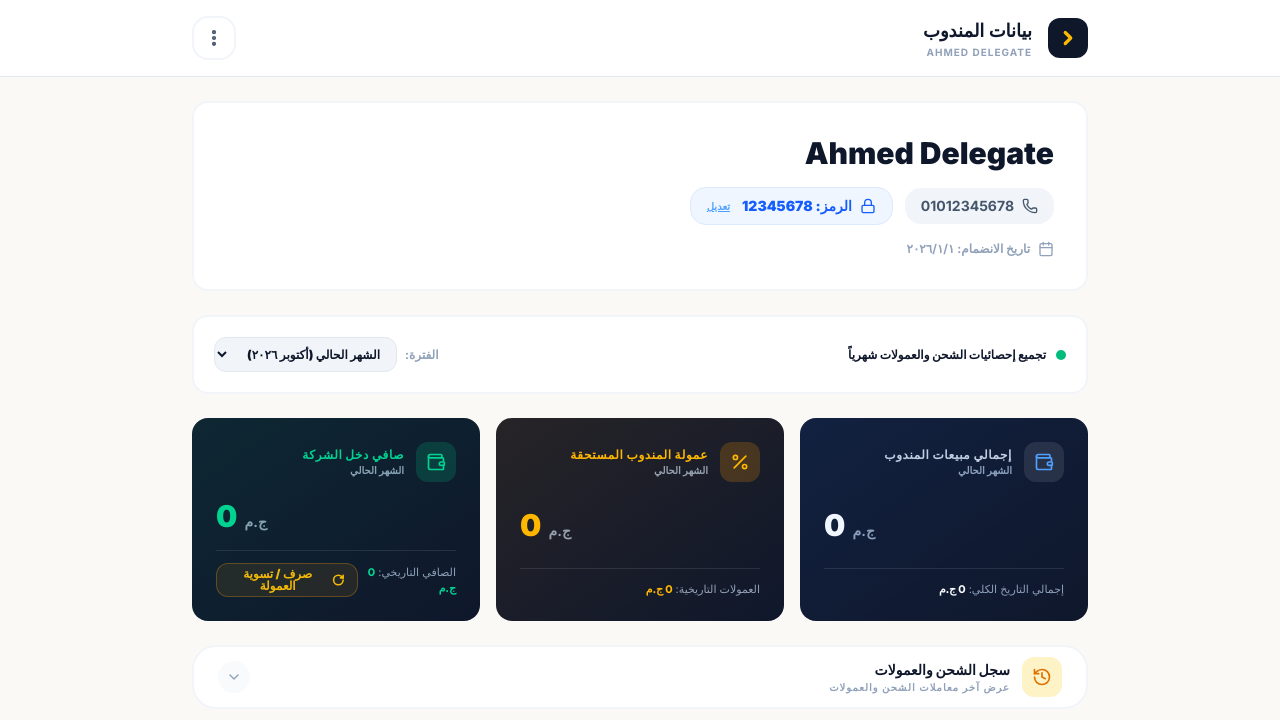
Test case: AdminDelegateDetailsView Component › renders retained historical activity logs and includes them in totals and commission
The image size is (1280, 720).
Click the heading "سجل الشحن والعمولات". click: click(942, 669)
box: [874,660,1010,678]
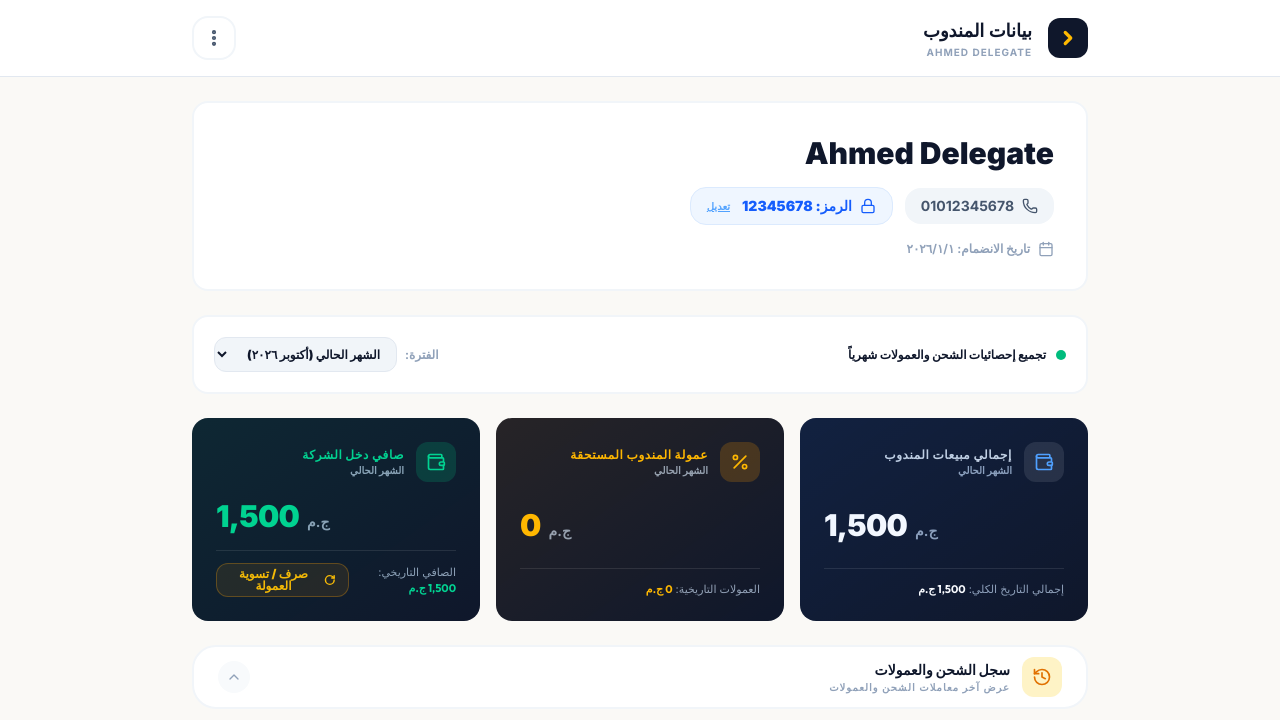
Expected: the text "عرض آخر معاملات الشحن والعمولات" is shown, [829,680,1010,694]
Now the text "1,500" below "إجمالي مبيعات المندوب" is shown, box [824,507,907,543]
